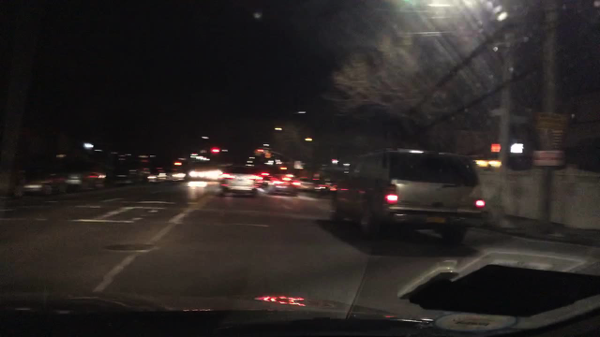car: (330, 148, 485, 245), (59, 161, 107, 191), (15, 168, 66, 196), (221, 164, 258, 198), (269, 173, 299, 198), (115, 166, 143, 184), (298, 174, 316, 194), (317, 175, 334, 195), (256, 172, 272, 189), (148, 172, 167, 183), (169, 170, 187, 181), (204, 170, 221, 181), (189, 169, 201, 181)
traffic light: (209, 147, 221, 154)
traffic sign: (533, 110, 570, 130), (530, 149, 566, 167), (290, 161, 305, 171), (511, 116, 528, 124), (489, 108, 504, 117), (265, 152, 271, 157)
